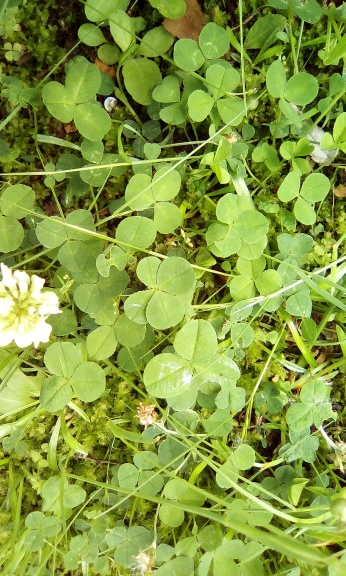4leaf: (123, 255, 195, 331)
